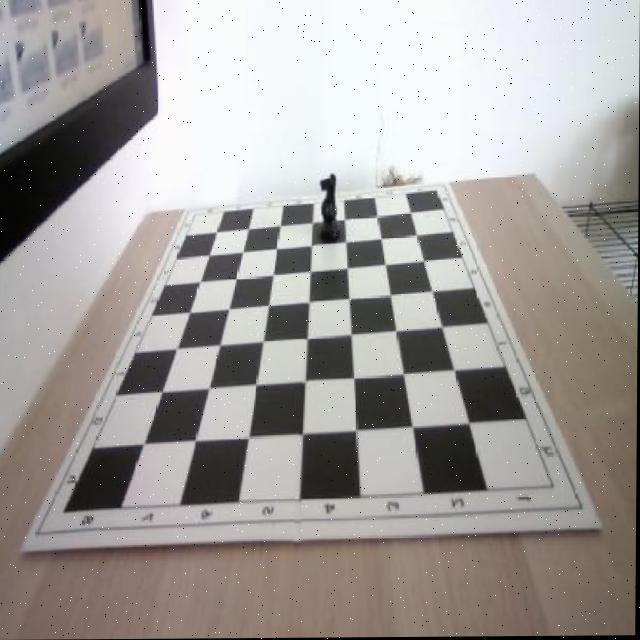black-king: (317, 173, 340, 246)
